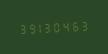four: (62, 19, 70, 33)
nine: (26, 21, 34, 35)
one: (35, 20, 43, 34)
six: (71, 19, 79, 32)
three: (17, 21, 25, 35), (44, 20, 52, 34), (80, 18, 88, 32)
zero: (53, 20, 61, 33)
